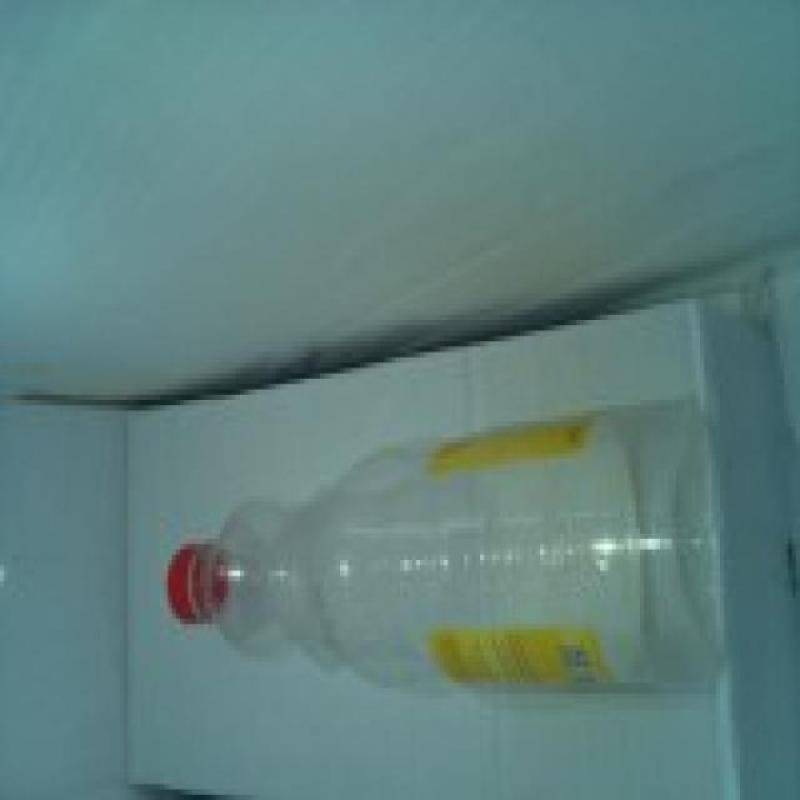botella: (165, 399, 723, 698)
